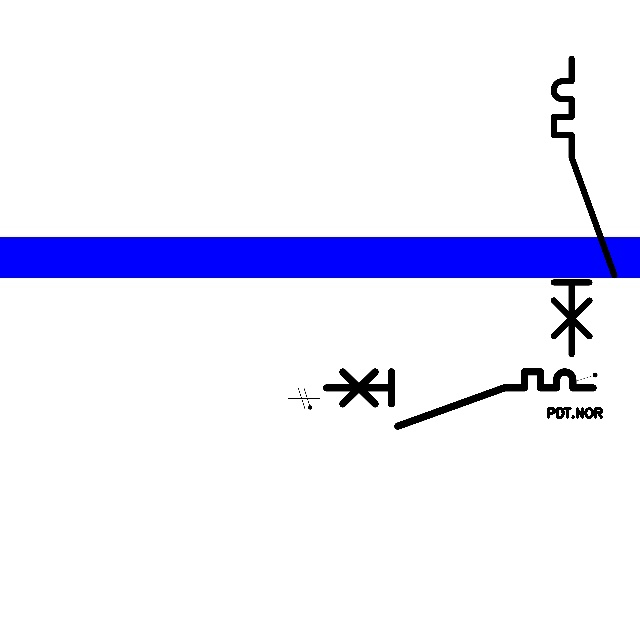interruptor_termomagnetico: (546, 51, 622, 362), (319, 365, 599, 433)
